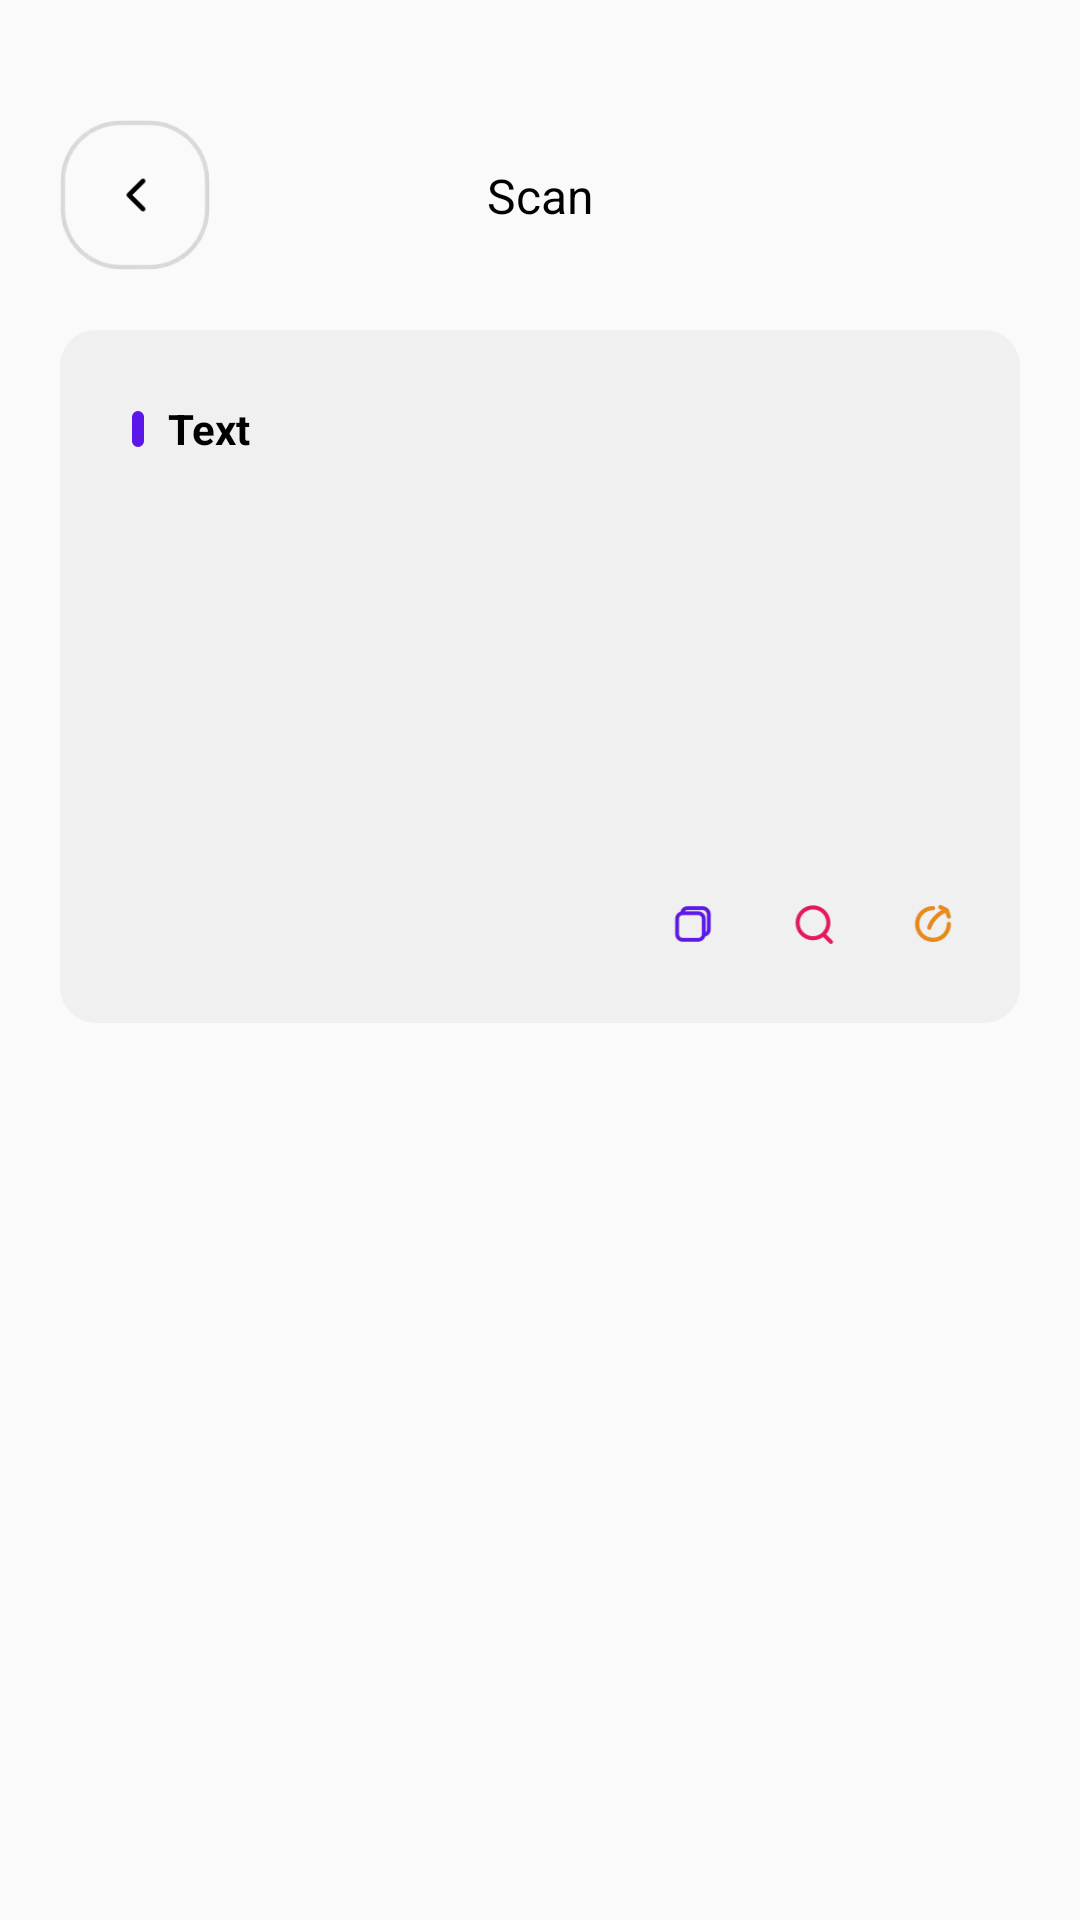

Where to tap for icons on this 1080x1920 app screen, as [x,y]:
back: [135,195]
search: [814,924]
share: [933,923]
